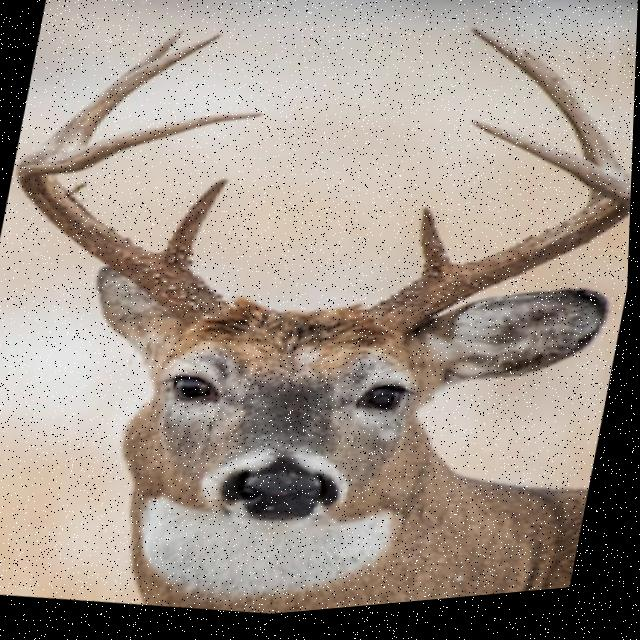L-F: (369, 128, 633, 343)
L-G1: (420, 213, 458, 285)
L-G3: (467, 32, 633, 194)
R-F: (16, 115, 268, 331)
R-G1: (159, 181, 232, 274)
R-G3: (40, 36, 225, 149)
